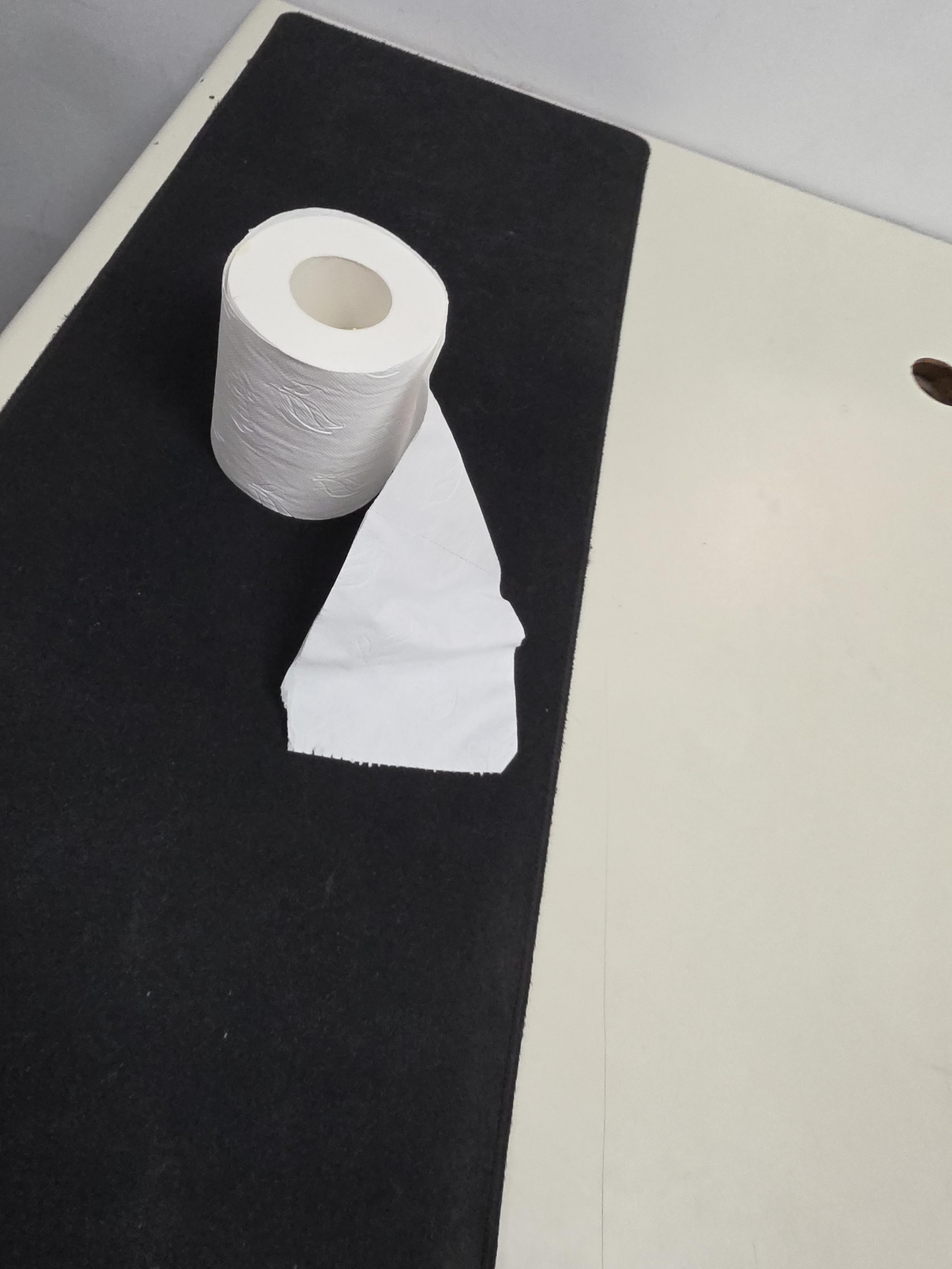tissue: (210, 207, 525, 776)
